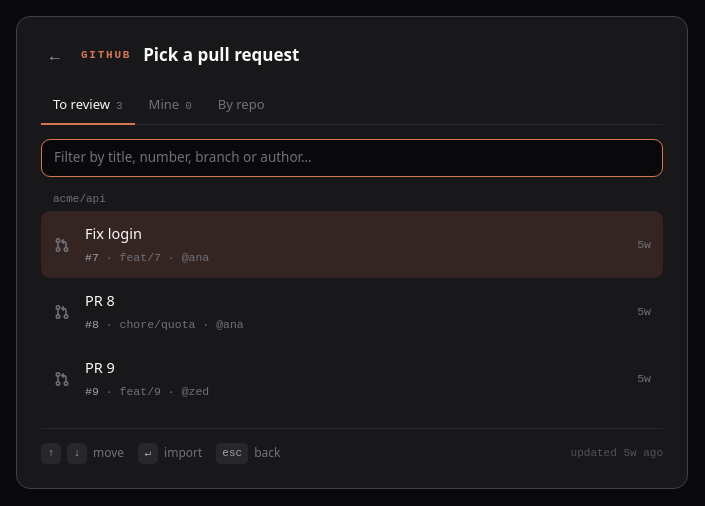
it: SourcePicker › narrows the list as you type, across title, number, branch and author
expect the text "Fix login" is shown: met, box [85,223,142,243]
In the field labelled "Filter": (352, 158) [41,138,663,176], type "quota"
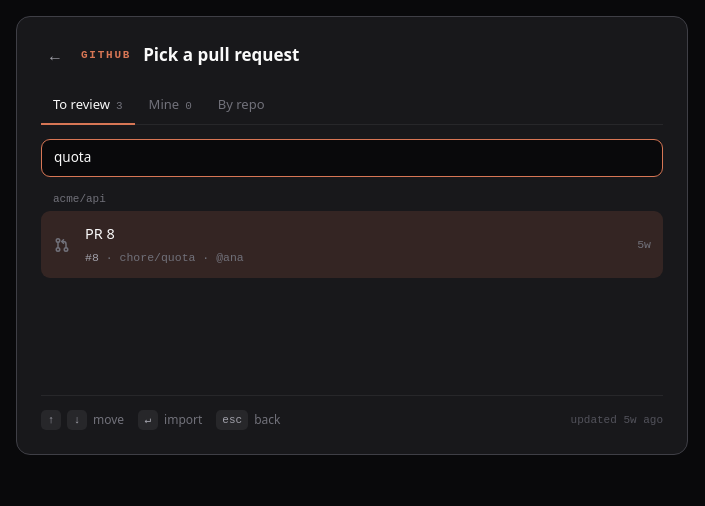
Replace the text in the field named "Filter" with "zed": (352, 158) [41,138,663,176]
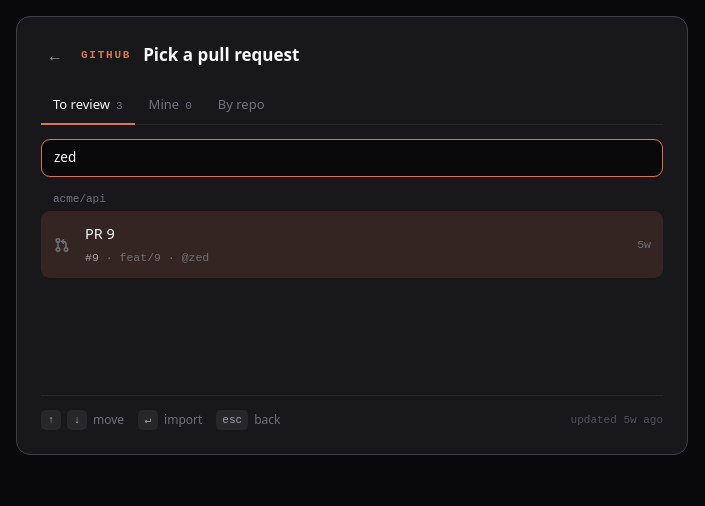
expect the option shows "PR 9": met, box [41,211,663,278]
Replace the text in the field named "Filter" with "#7": (352, 158) [41,138,663,176]
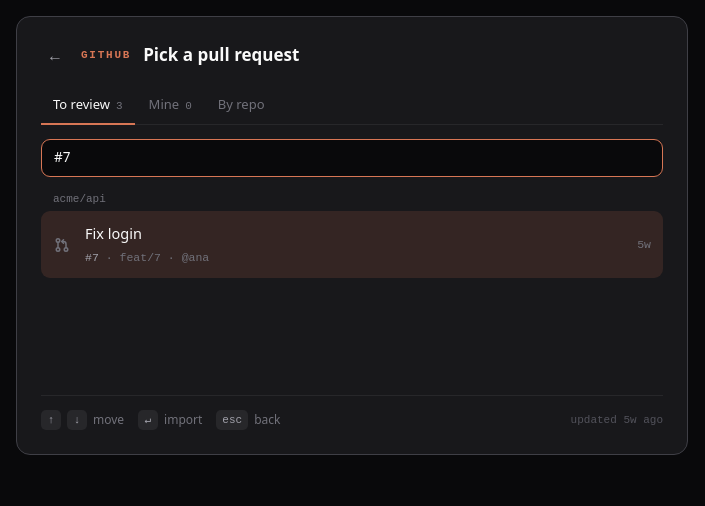
expect the option shows "Fix login": met, box [41,211,663,278]
